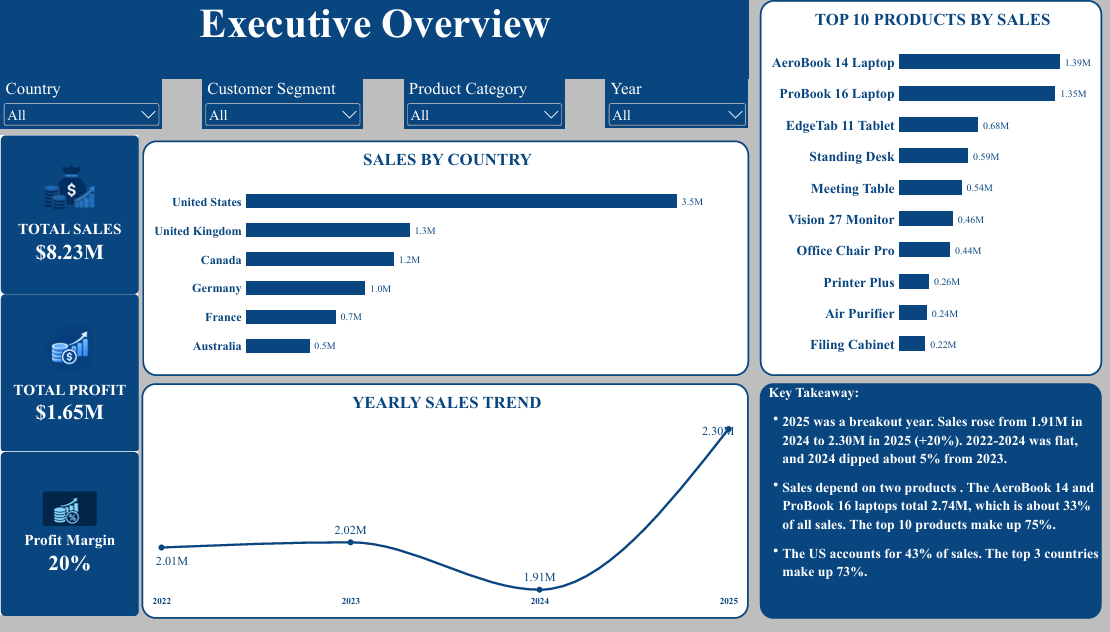

This screenshot's page, from the dashboard's own definition file:
{"tool":"powerbi","page":{"name":"Executive Overview","canvas":[1920,1080],"ordinal":0},"visuals":[{"type":"cardVisual","fields":{"Data":["Fact Table.TOTAL SALES"]},"box":[0,237.2,240.7,276],"z":0},{"type":"cardVisual","fields":{"Data":["Fact Table.TOTAL PROFIT"]},"box":[0,512.8,240.7,276],"z":1000},{"type":"cardVisual","fields":{"Data":["Fact Table.Profit Margin"]},"box":[0,788.4,240.7,286],"z":2000},{"type":"slicer","fields":{"Values":["DIM DATE.Year"]},"box":[1055.2,137.8,249.4,85.5],"z":3000},{"type":"slicer","fields":{"Values":["DIM REGION.Country"]},"box":[0,137.8,280.8,86],"z":4000},{"type":"slicer","fields":{"Values":["DIM PRODUCT.Product_Category"]},"box":[703.8,137.8,280,86],"z":5000},{"type":"slicer","fields":{"Values":["DIM CUSTOMER.Customer_Segment"]},"box":[352.3,137.8,280,86],"z":6000},{"type":"lineChart","title":"YEARLY SALES TREND","fields":{"Category":["DIM DATE.Year"],"Y":["Sum(Fact Table.Sales_Amount)"]},"box":[245.8,668,1058.7,411],"z":7000},{"type":"clusteredBarChart","title":"TOP 10 PRODUCTS BY SALES","fields":{"Category":["DIM PRODUCT.Product_Name"],"Y":["Fact Table.TOTAL SALES"]},"box":[1323.8,0,596.5,655.8],"z":8000},{"type":"textbox","box":[0,0,1304.7,137.8],"z":9000},{"type":"clusteredBarChart","title":"SALES BY COUNTRY","fields":{"Category":["DIM REGION.Country"],"Y":["Fact Table.TOTAL SALES"]},"box":[246.5,244.8,1058,411],"z":10000},{"type":"textbox","box":[1324,668,596,411],"z":11000}]}

Visuals, with their boxes in screenshot pixels (x1, y1, x2, y2), scaled from the page's 1920x1080 canvas onto the 1110x632 screenshot:
cardVisual - Fact Table.TOTAL SALES: BBox(0, 139, 139, 300)
cardVisual - Fact Table.TOTAL PROFIT: BBox(0, 300, 139, 462)
cardVisual - Fact Table.Profit Margin: BBox(0, 461, 139, 629)
slicer - DIM DATE.Year: BBox(610, 81, 754, 131)
slicer - DIM REGION.Country: BBox(0, 81, 162, 131)
slicer - DIM PRODUCT.Product_Category: BBox(407, 81, 569, 131)
slicer - DIM CUSTOMER.Customer_Segment: BBox(204, 81, 366, 131)
"YEARLY SALES TREND" lineChart: BBox(142, 391, 754, 631)
"TOP 10 PRODUCTS BY SALES" clusteredBarChart: BBox(765, 0, 1109, 384)
textbox: BBox(0, 0, 754, 81)
"SALES BY COUNTRY" clusteredBarChart: BBox(143, 143, 754, 384)
textbox: BBox(765, 391, 1109, 631)
